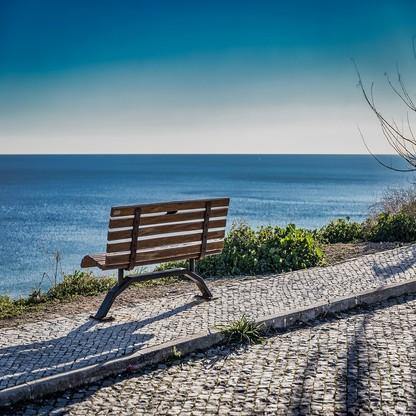obstacle: (73, 194, 238, 315)
